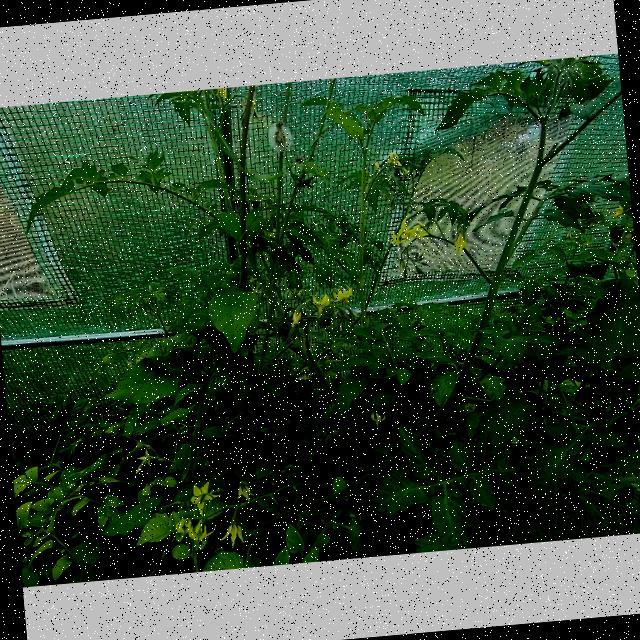Flowers: (174, 516, 218, 548), (186, 479, 222, 515), (390, 216, 436, 243), (219, 510, 249, 549), (308, 290, 332, 318), (135, 448, 158, 473), (452, 229, 472, 254), (331, 283, 353, 305), (236, 480, 257, 500), (368, 409, 387, 428), (214, 88, 230, 108), (291, 307, 304, 327), (386, 152, 402, 166), (610, 204, 626, 218), (397, 165, 410, 179), (370, 160, 380, 172)
